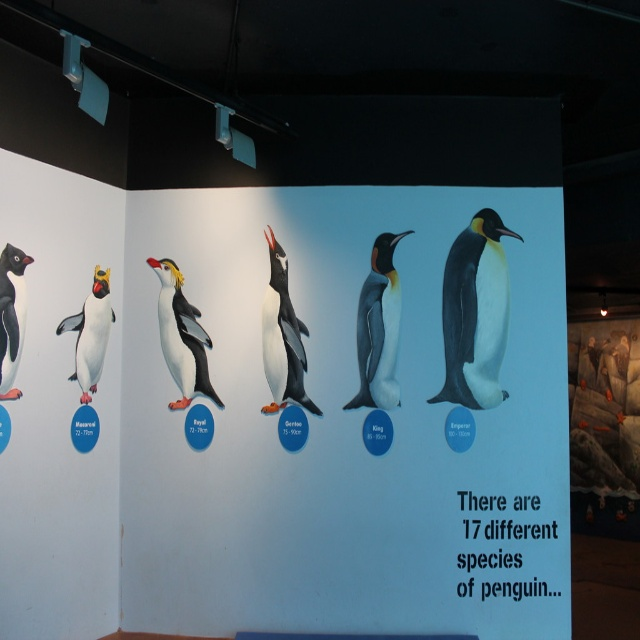Penguin: (434, 202, 530, 433), (258, 218, 324, 416), (147, 253, 226, 414), (345, 225, 412, 410), (56, 265, 117, 406), (0, 240, 31, 401)
